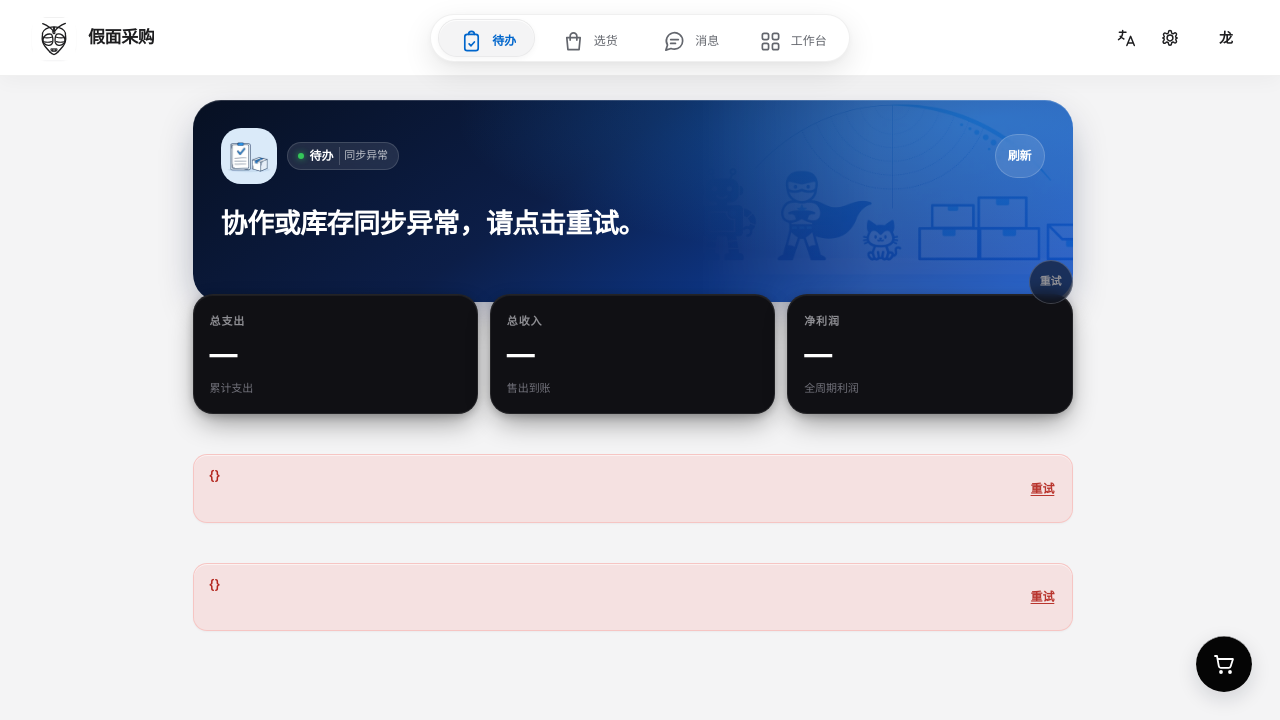
Test: Dashboard favorite synchronization › retries a transient targeted fetch without reloading the favorite collection
What coordinates should you click on to do the following:
click the button with aria-label "选货"
I would click on:
 (589, 41)
Its box is [538,19,640,63].
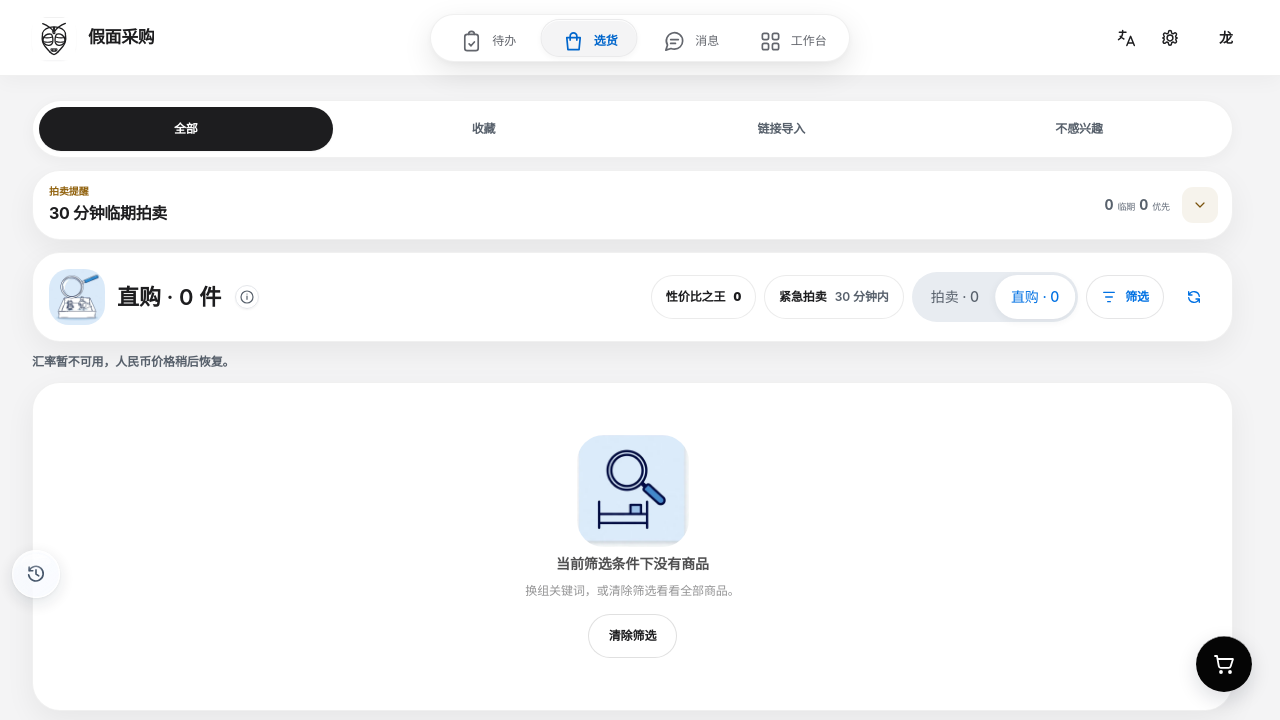
Expected: the element named "在售商品类型" is shown, [912,272,1078,322]
Expected: the tab "收藏" is shown
What coordinates should you click on to do the following:
click the tab "收藏"
I would click on:
 (484, 129)
Its box is [337,107,631,151].
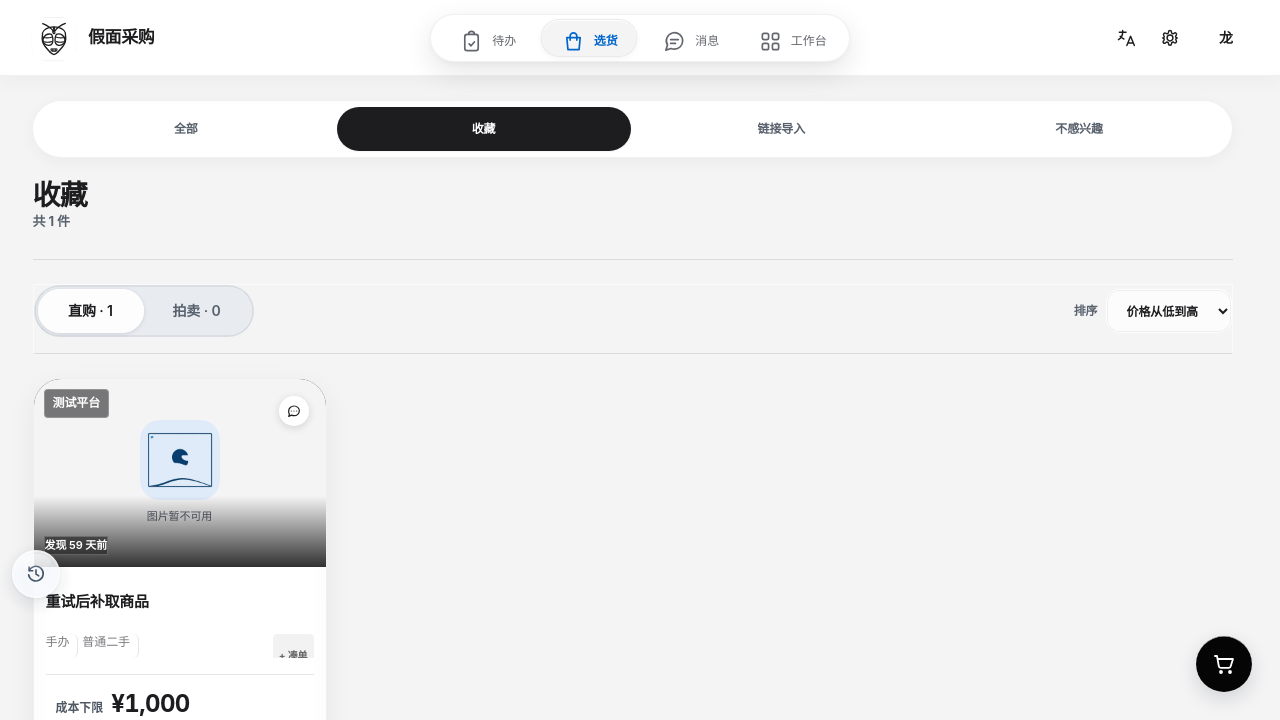
Expected: the text "重试后补取商品" is shown, [46,578,314,626]
